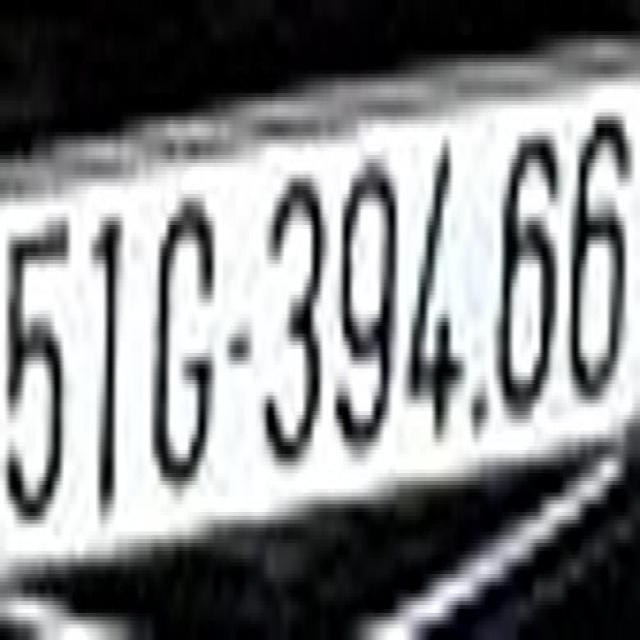1: (82, 166, 136, 532)
3: (262, 116, 321, 492)
4: (404, 82, 458, 477)
5: (2, 178, 69, 547)
6: (566, 38, 634, 430), (494, 81, 560, 426)
9: (332, 81, 395, 489)
G: (152, 147, 216, 512)
